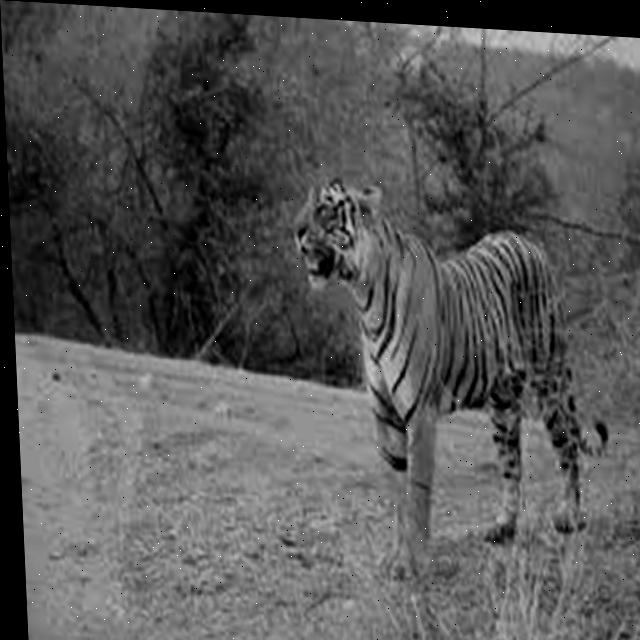Tiger: (287, 173, 616, 594)
